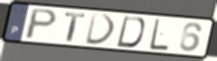6: (179, 22, 205, 53)
D: (84, 12, 118, 46), (115, 15, 147, 49)
L: (148, 18, 170, 52)
P: (23, 7, 60, 41)
T: (64, 12, 87, 43)
